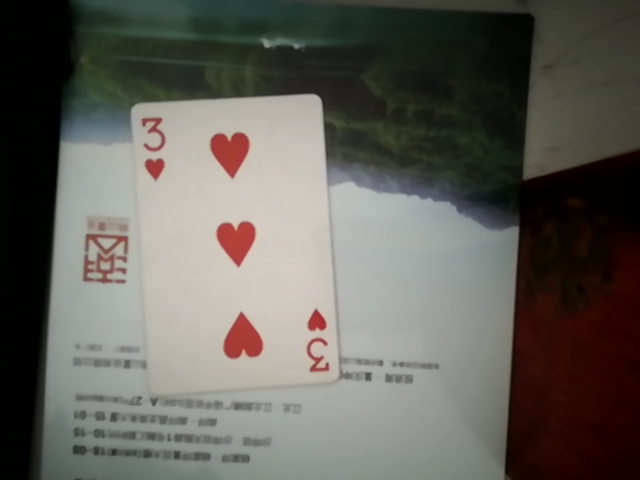hx 3: (131, 90, 343, 392)
